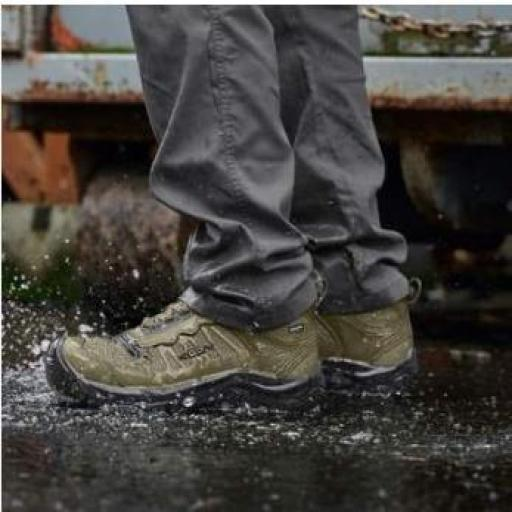safety_boots: (41, 308, 326, 414), (333, 300, 441, 391)
